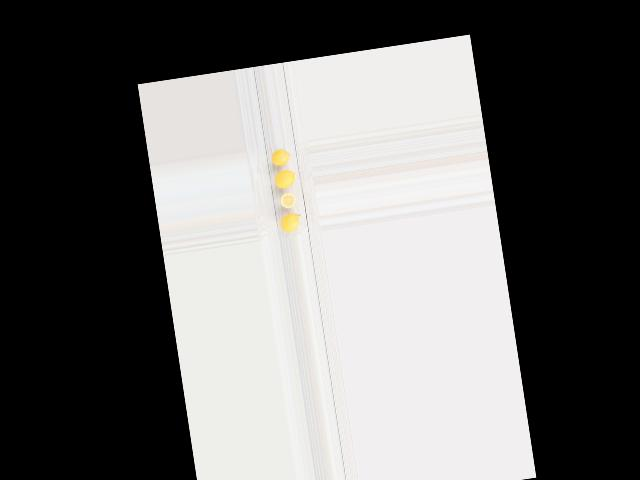lemon: (278, 212, 304, 233)
